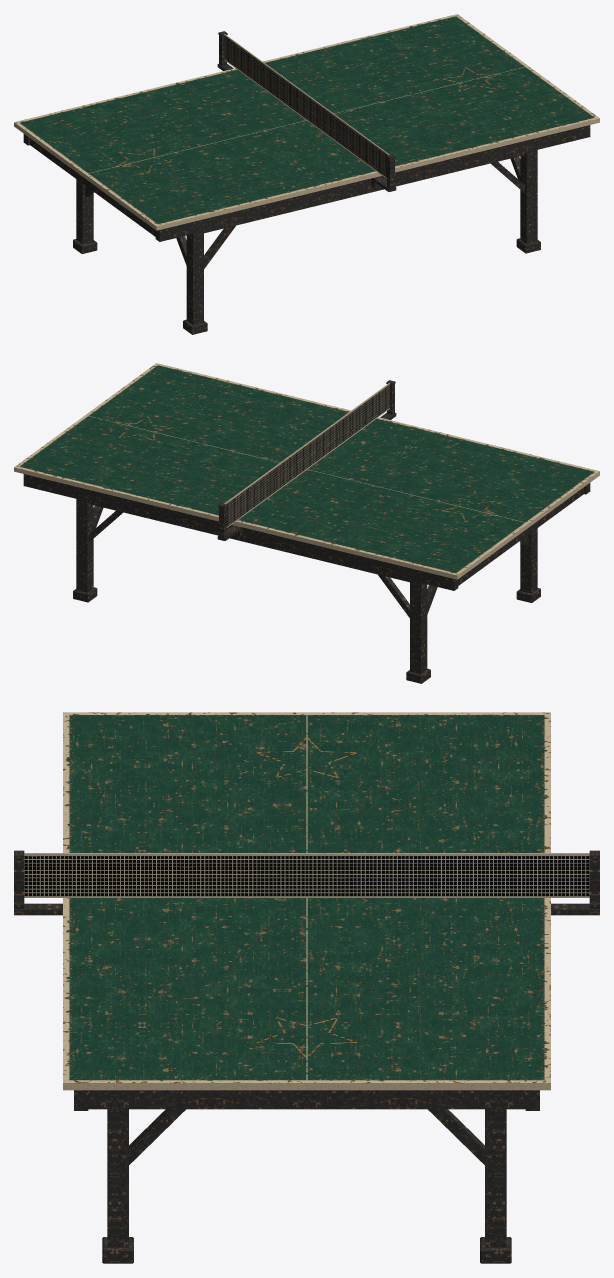
Rendered from TableTennisTable.fbx.
3 renders of one model, top to bottom at view 1: azimuth 30°, elevation 25°; view 2: azimuth 150°, elevation 25°; view 3: azimuth 270°, elevation 25°, orthographic. The views are drawn at different scales.
Parts seen in each view (by area): view 1: 01_Tabletop_274x152_5cm_H76cm, 02_Worn_Metal_Frame, Net_Transparent_Threads, 03_Net_Posts_And_Tapes; view 2: 01_Tabletop_274x152_5cm_H76cm, 02_Worn_Metal_Frame, Net_Transparent_Threads, 03_Net_Posts_And_Tapes; view 3: 01_Tabletop_274x152_5cm_H76cm, Net_Transparent_Threads, 02_Worn_Metal_Frame, 03_Net_Posts_And_Tapes.
Boxes of the visible parts, x1,y1,x2,y2 form: 01_Tabletop_274x152_5cm_H76cm: (14,14,599,230); 02_Worn_Metal_Frame: (23,125,590,334); Net_Transparent_Threads: (224,36,387,177); 03_Net_Posts_And_Tapes: (217,31,396,191); 01_Tabletop_274x152_5cm_H76cm: (14,363,599,579); 02_Worn_Metal_Frame: (23,474,590,683); Net_Transparent_Threads: (226,385,389,526); 03_Net_Posts_And_Tapes: (217,380,396,540); 01_Tabletop_274x152_5cm_H76cm: (63,712,550,1090); Net_Transparent_Threads: (24,856,589,896); 02_Worn_Metal_Frame: (74,1090,539,1263); 03_Net_Posts_And_Tapes: (14,850,599,915).
Bounding box in the file's own units: 274 × 91.25 × 183.
4 materials, 4 textured.
